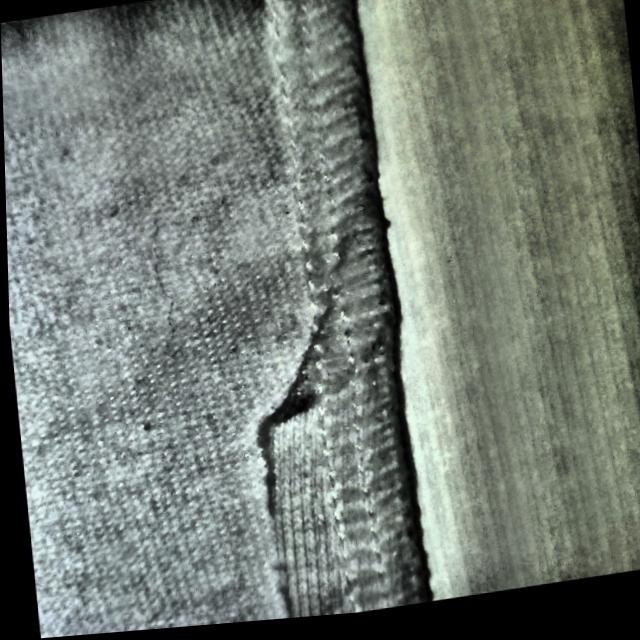seam: (207, 328, 435, 622)
